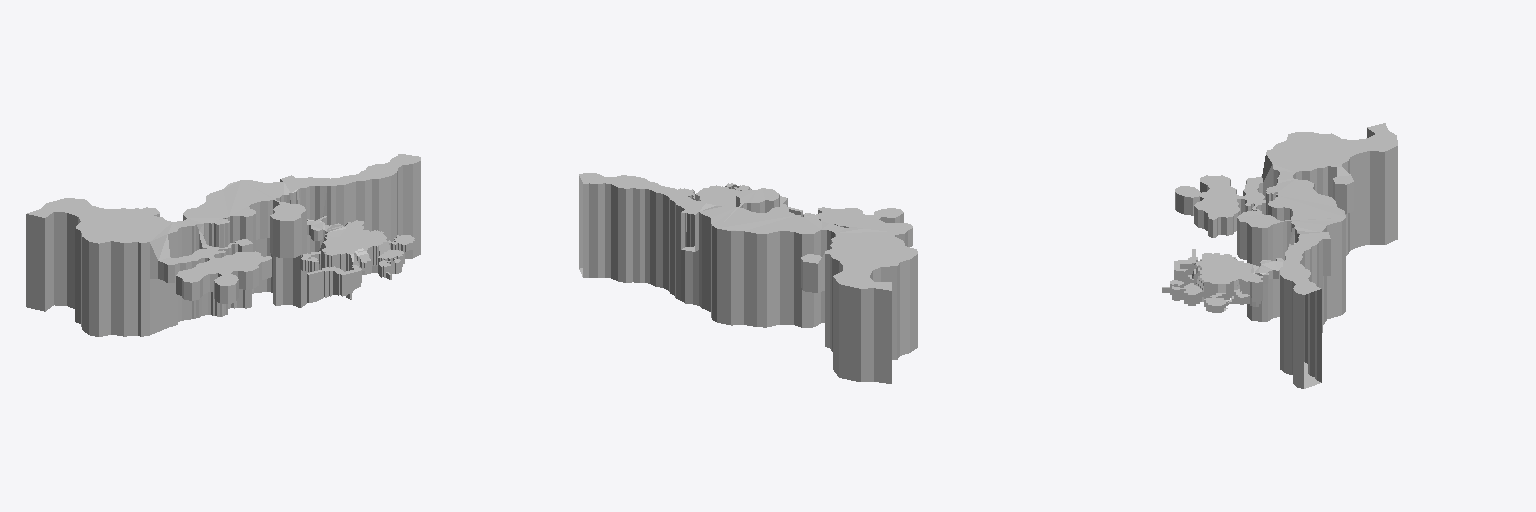
The model's file is 11.full.obj.
The picture shows the model from 3 angles: view 1: azimuth 30°, elevation 25°; view 2: azimuth 150°, elevation 25°; view 3: azimuth 270°, elevation 25°; orthographic projection.
Size of the model in its own units: 952 by 243 by 550.